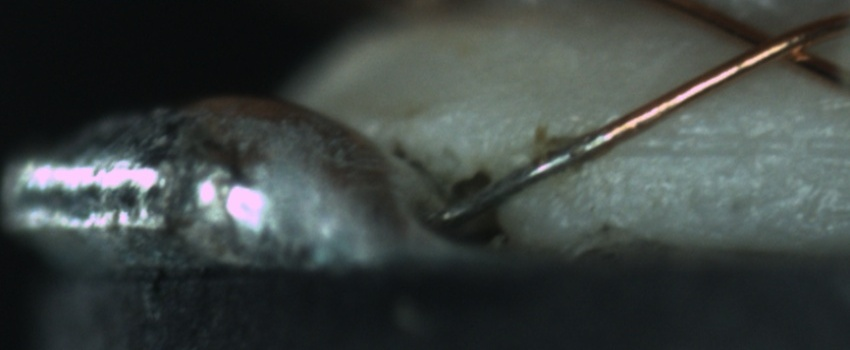CL: (723, 14, 829, 75)
DL: (585, 120, 850, 184)
TS: (431, 132, 609, 228)
